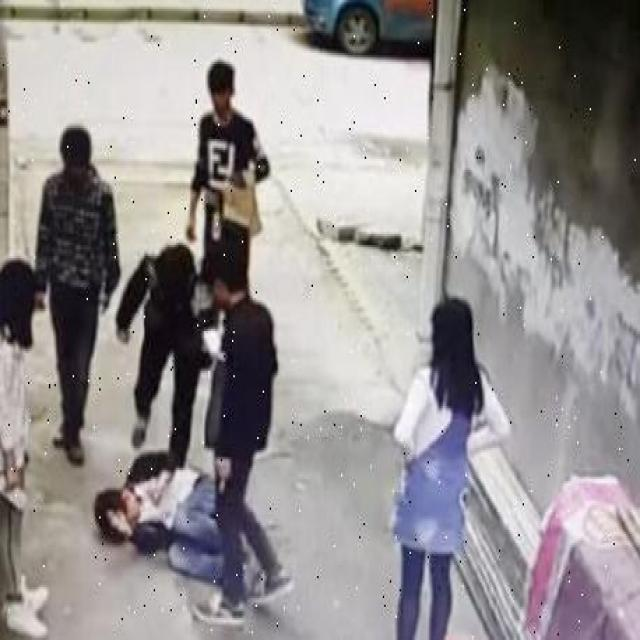fall: (88, 446, 259, 590)
